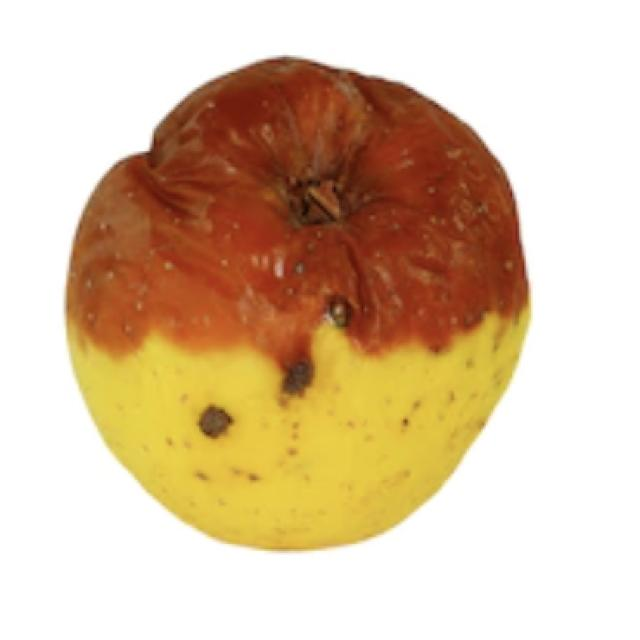apple: (68, 59, 529, 549)
